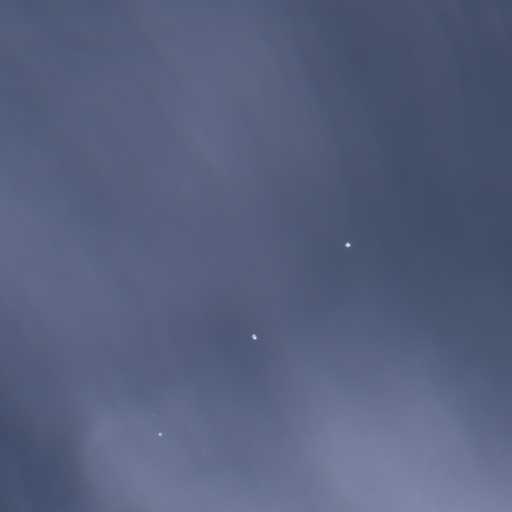Iceberg: (345, 242, 350, 247), (251, 334, 256, 339), (158, 432, 162, 435), (153, 414, 154, 415)
